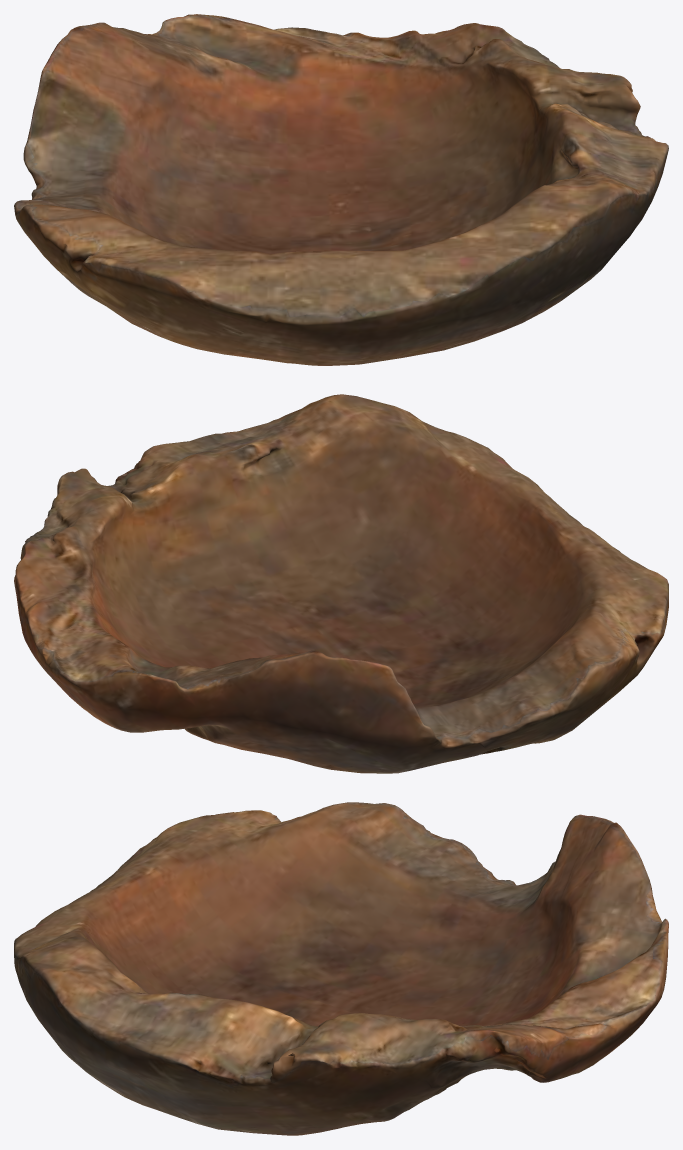
File: bowl.glb
3 renders of one model, top to bottom at view 1: azimuth 30°, elevation 25°; view 2: azimuth 150°, elevation 25°; view 3: azimuth 270°, elevation 25°, orthographic. The views are drawn at different scales.
Parts seen in each view (by area): view 1: wooden_bowl_01; view 2: wooden_bowl_01; view 3: wooden_bowl_01.
Part boxes in pixels (x1,y1,x2,y2): wooden_bowl_01: (14,14,668,365); wooden_bowl_01: (14,394,668,773); wooden_bowl_01: (14,802,668,1135).
Bounding box in the file's own units: 0.3131 × 0.0937 × 0.3091.
Materials: 1 (1 with a texture image).
